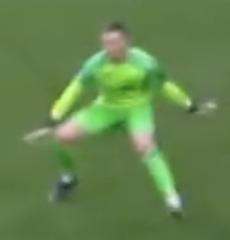goalkeeper: (23, 15, 229, 230)
